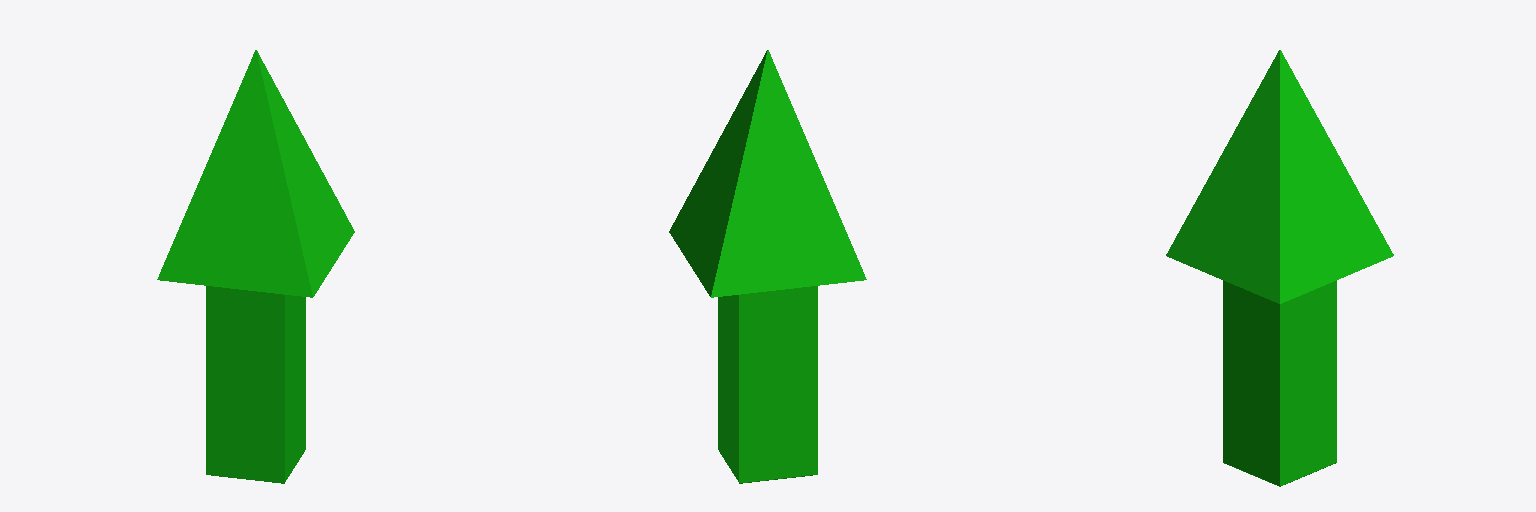
Rendered from arrow.obj.
The picture shows the model from 3 angles: view 1: azimuth 30°, elevation 25°; view 2: azimuth 150°, elevation 25°; view 3: azimuth 270°, elevation 25°; orthographic projection.
Visible parts, largest first — view 1: cone1; view 2: cone1; view 3: cone1.
Boxes of the visible parts, x1=… form: cone1: x1=157, y1=50, x2=354, y2=483; cone1: x1=669, y1=50, x2=866, y2=483; cone1: x1=1166, y1=50, x2=1393, y2=486.
Bounding box in the file's own units: 2 × 4 × 2.